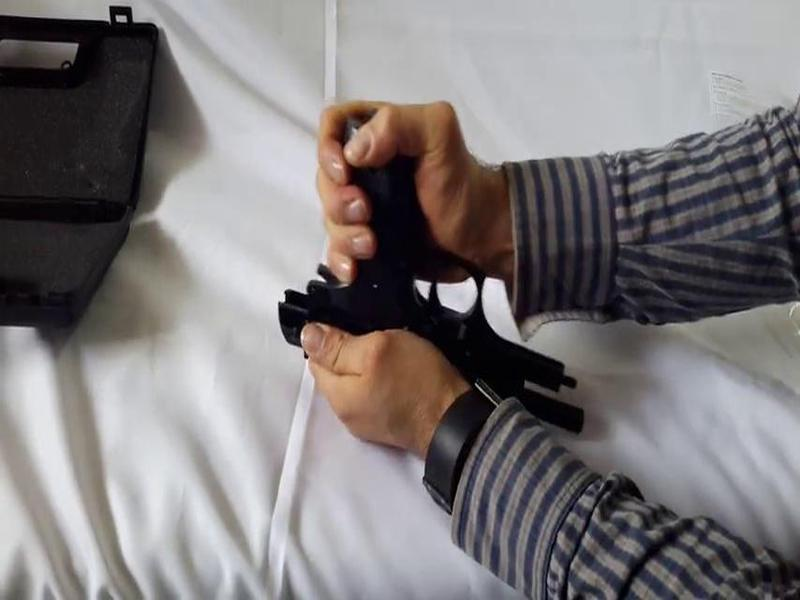Pistola: (249, 120, 623, 465)
